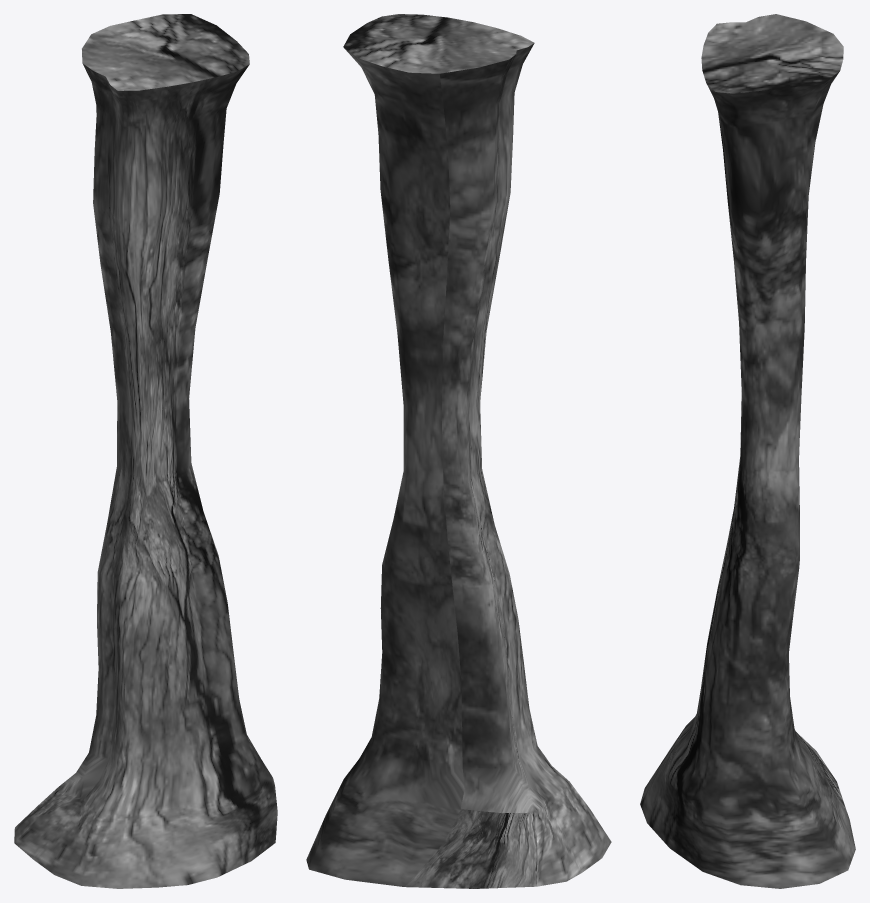
Rendered from rockformation4.obj.
3 renders of one model, left to right at view 1: azimuth 30°, elevation 25°; view 2: azimuth 150°, elevation 25°; view 3: azimuth 270°, elevation 25°, orthographic. The views are drawn at different scales.
Parts seen in each view (by area): view 1: rockformation4; view 2: rockformation4; view 3: rockformation4.
Part boxes in pixels (x1,y1,x2,y2): rockformation4: [14, 14, 277, 888]; rockformation4: [306, 14, 611, 888]; rockformation4: [640, 14, 855, 888].
Bounding box in the file's own units: 102 × 328 × 81.34.
Materials: 1 (1 with a texture image).
